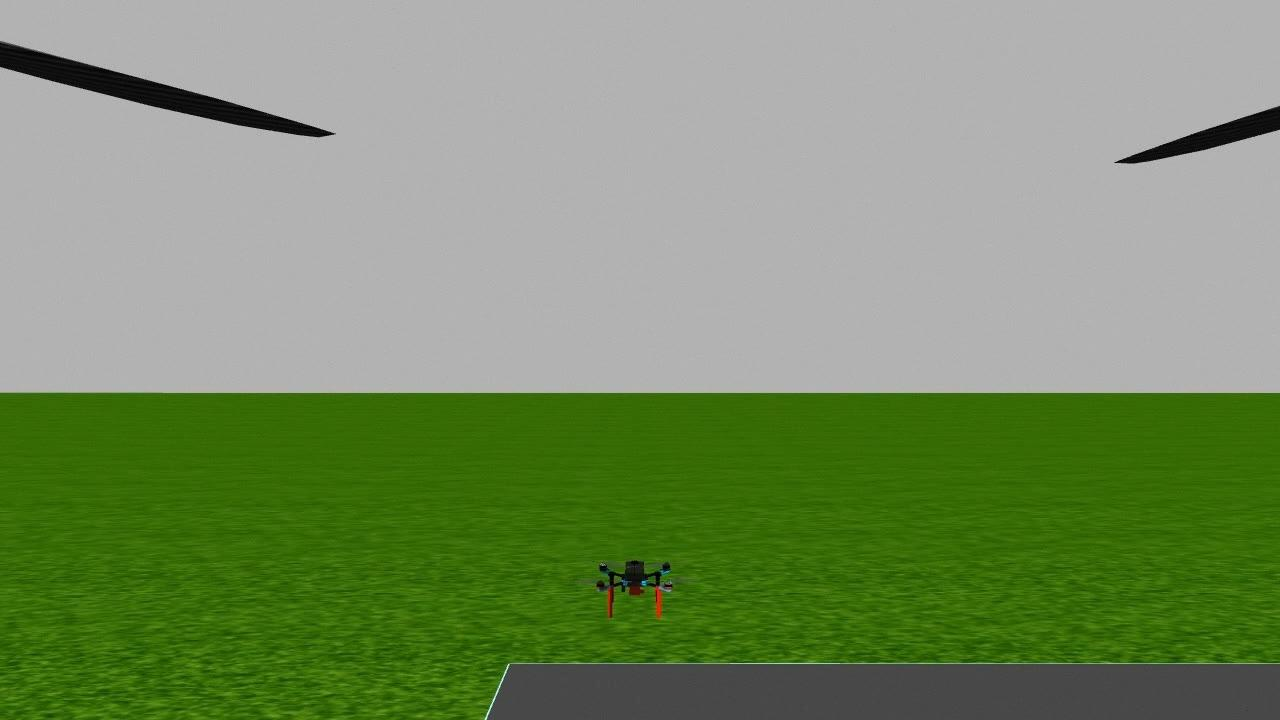UAV: (571, 552, 695, 624)
